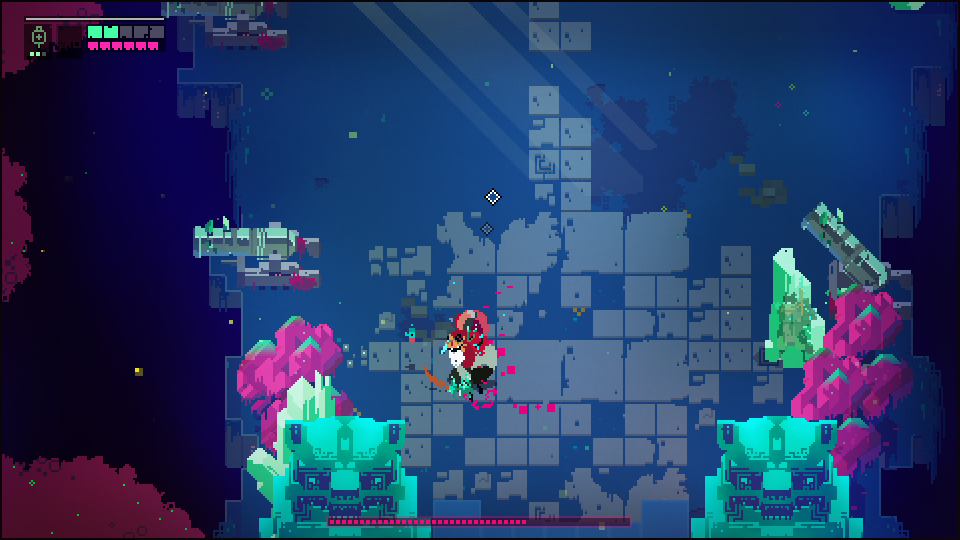hanged_man: (423, 329, 499, 405)
